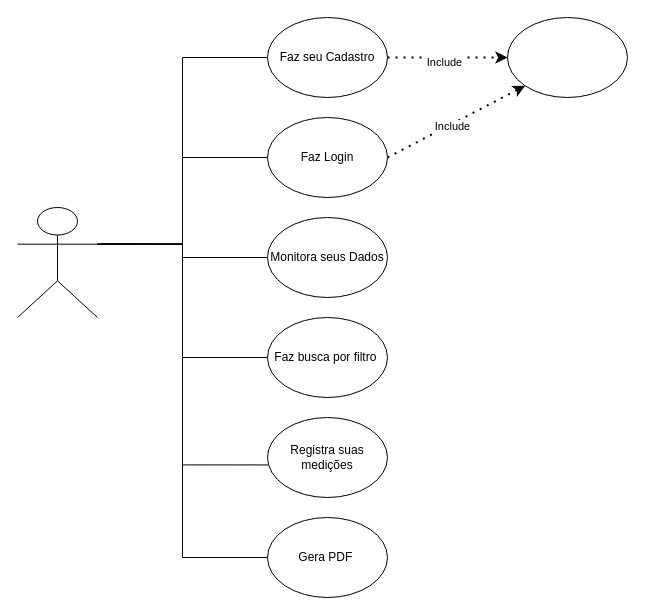
The diagram is 645 pixels wide and 615 high, and some of its shapes have lost their labels. The centre of each missing label's shape, as x and y in pixels:
"Cliente" goes at pixel 57 262.
"Confere exitência" goes at pixel 567 57.
